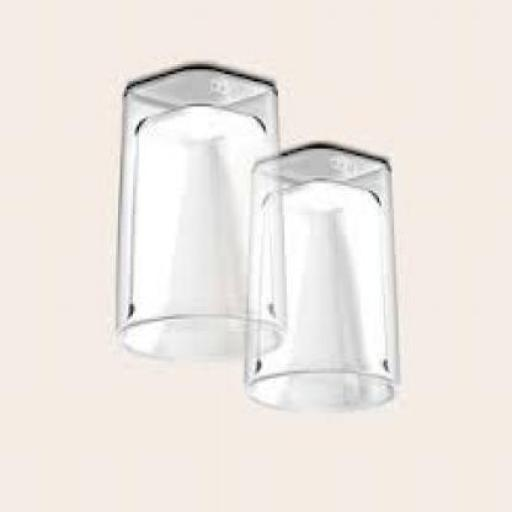glass: (118, 70, 288, 366), (248, 144, 401, 416)
